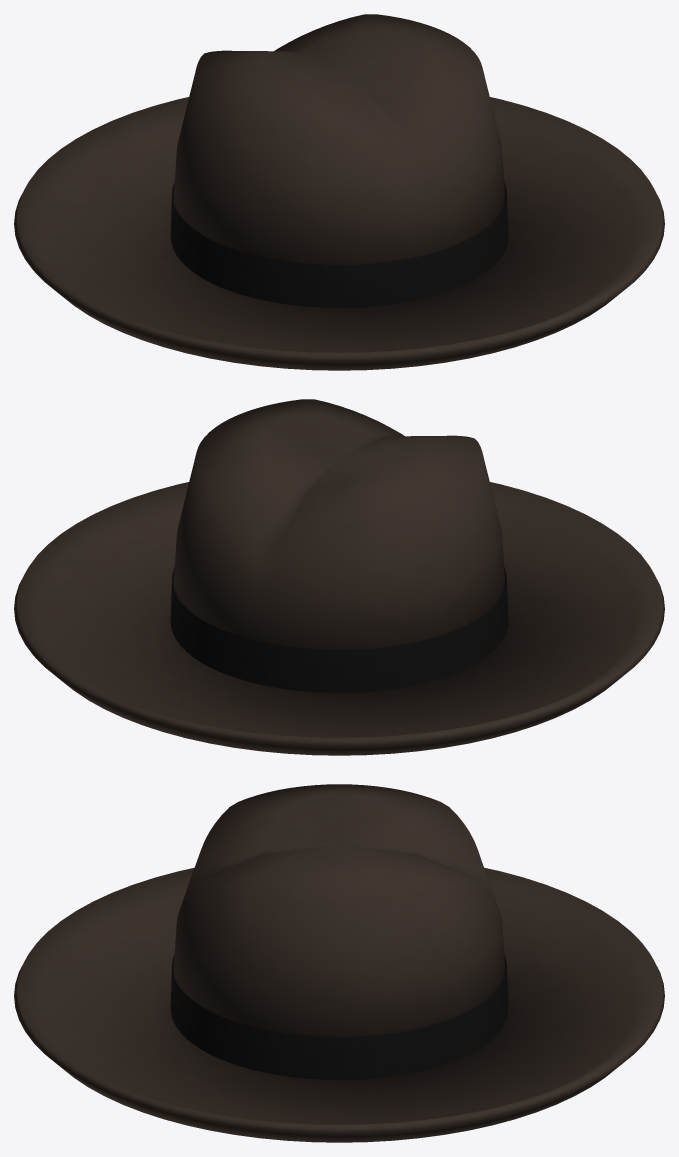
File: fedora-brown.glb
3 views of the same model, one above another, from view 1: azimuth 30°, elevation 25°; view 2: azimuth 150°, elevation 25°; view 3: azimuth 270°, elevation 25° (orthographic).
Visible parts, largest first — view 1: fabric_primary_felt, hat_band; view 2: fabric_primary_felt, hat_band; view 3: fabric_primary_felt, hat_band.
Part boxes in pixels (left/top/right/bottom): fabric_primary_felt: left=14, top=14, right=664, bottom=370; hat_band: left=170, top=182, right=508, bottom=307; fabric_primary_felt: left=14, top=399, right=664, bottom=755; hat_band: left=170, top=567, right=508, bottom=692; fabric_primary_felt: left=14, top=784, right=664, bottom=1142; hat_band: left=170, top=954, right=508, bottom=1079.
Bounding box in the file's own units: 0.34 × 0.114 × 0.34.
2 materials, 2 textured.
